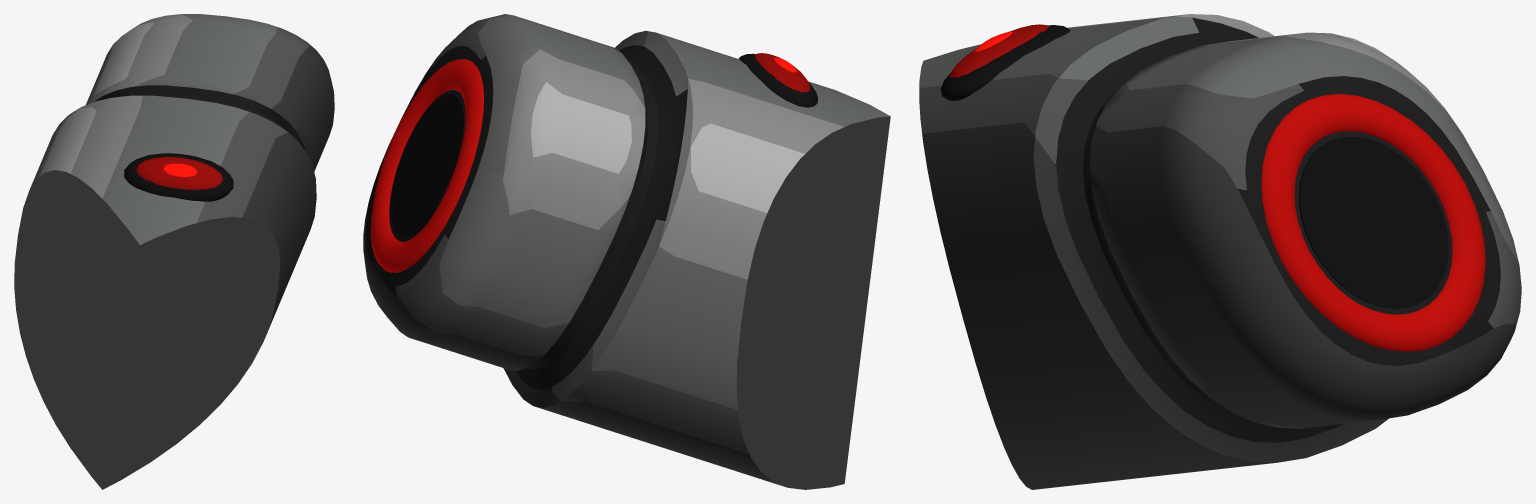
The model's file is mortar_muzzle.glb.
3 views of the same model, side by side, from view 1: azimuth 30°, elevation 25°; view 2: azimuth 150°, elevation 25°; view 3: azimuth 270°, elevation 25° (orthographic). The views are drawn at different scales.
Visible parts, largest first — view 1: mortar_muzzle; view 2: mortar_muzzle; view 3: mortar_muzzle.
Boxes of the visible parts, left/top/right/bottom form: mortar_muzzle: left=14, top=14, right=334, bottom=489; mortar_muzzle: left=363, top=14, right=890, bottom=489; mortar_muzzle: left=919, top=14, right=1521, bottom=489.
Bounding box in the file's own units: 14.36 × 17 × 16.07.
